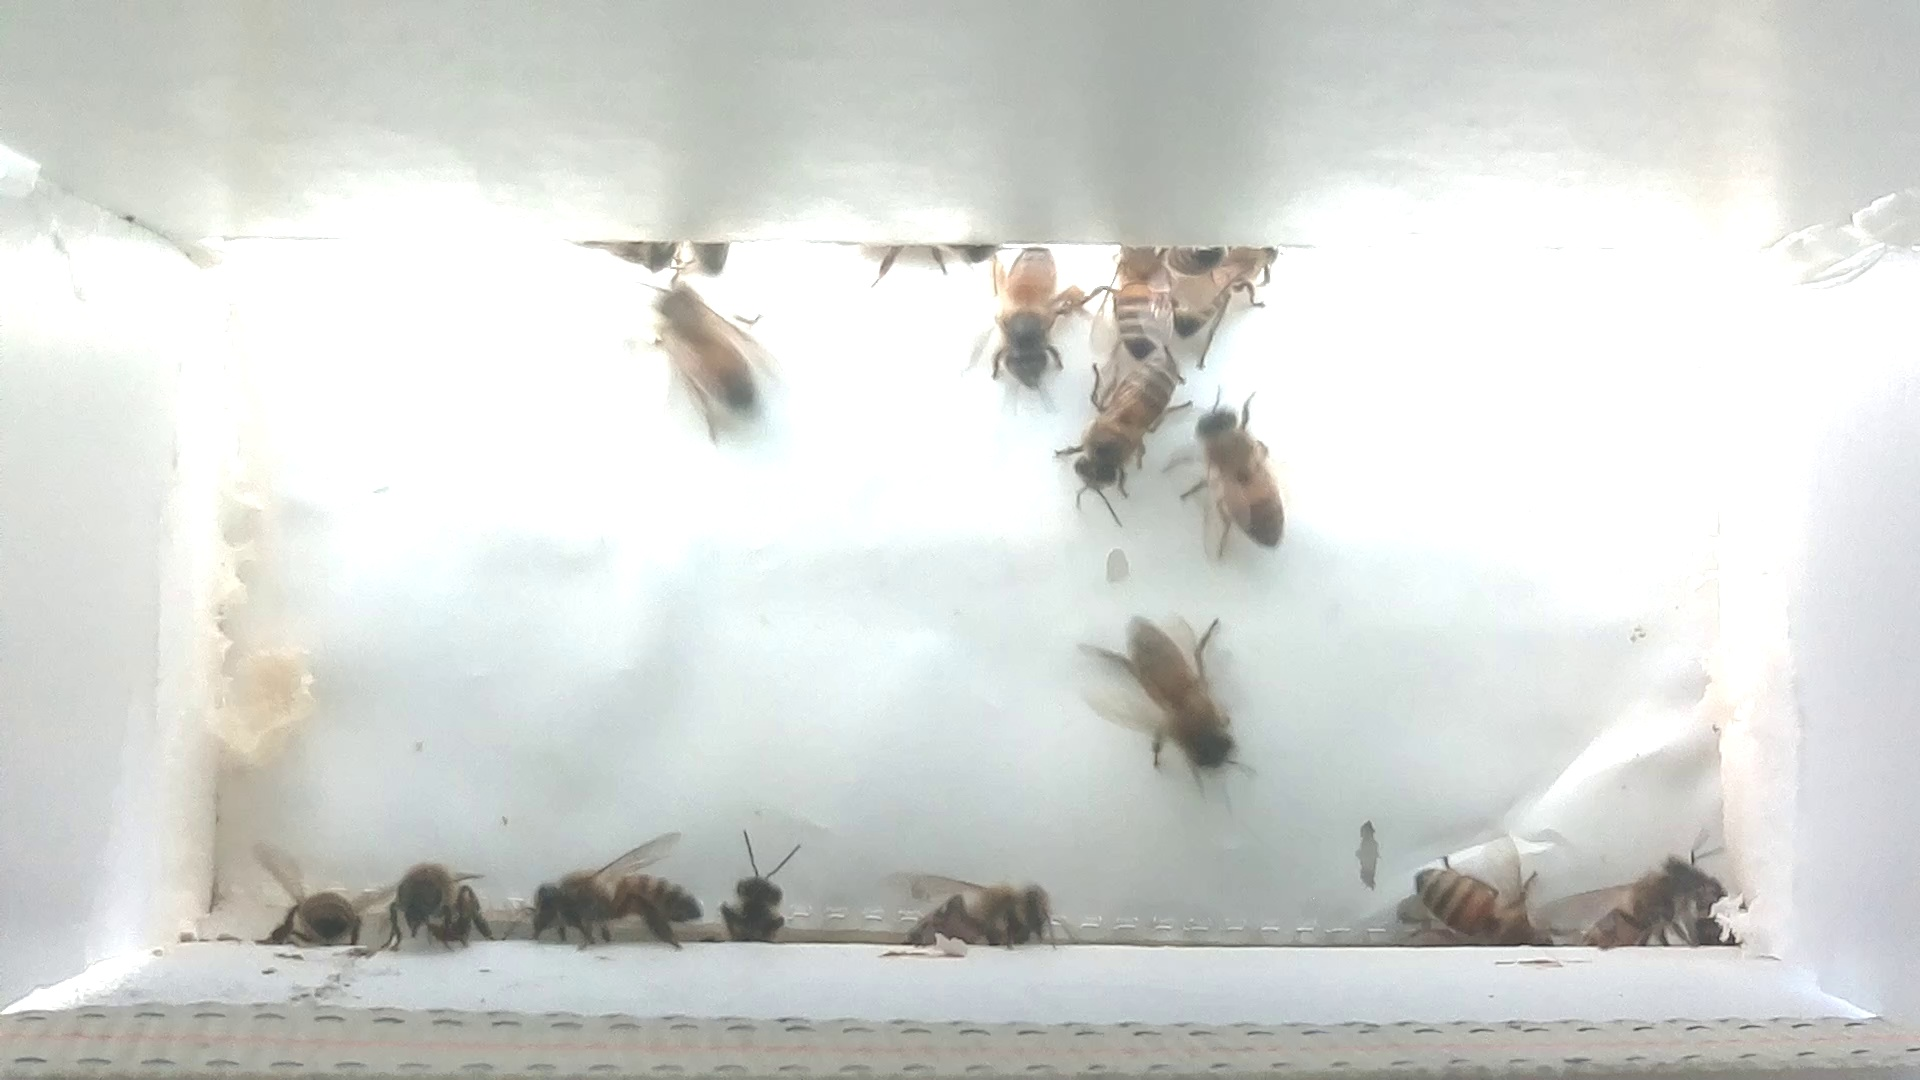bee: (1068, 589, 1265, 799), (1058, 335, 1205, 529), (501, 825, 716, 955), (630, 265, 785, 443), (1168, 386, 1304, 570), (869, 851, 1068, 960), (1404, 835, 1564, 968), (971, 236, 1091, 413), (240, 825, 396, 957), (1578, 831, 1729, 967), (1163, 228, 1296, 364), (368, 833, 496, 960), (705, 823, 814, 955), (1101, 231, 1182, 376)
